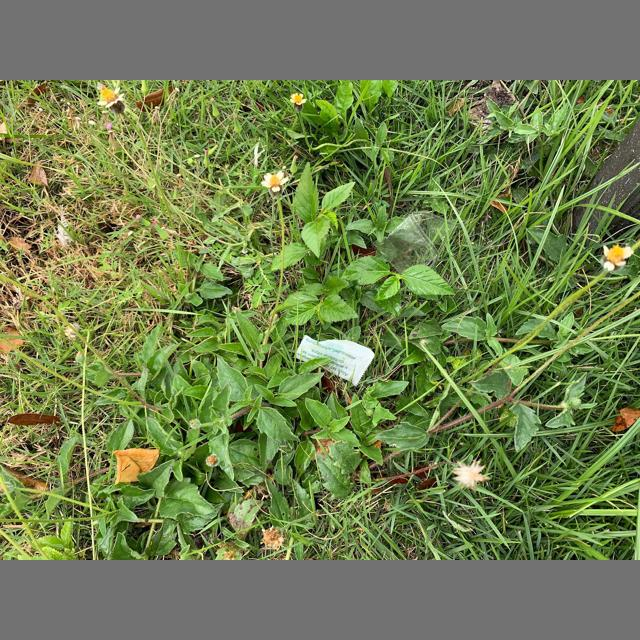litter: (372, 211, 460, 274), (294, 336, 375, 385)
